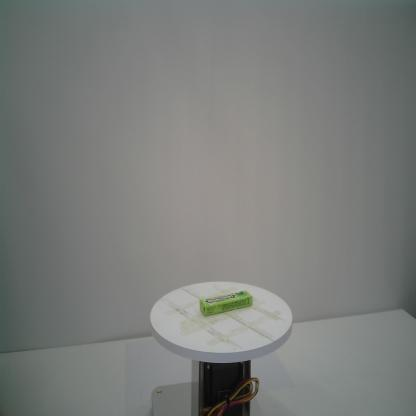Gum: (200, 288, 254, 318)
